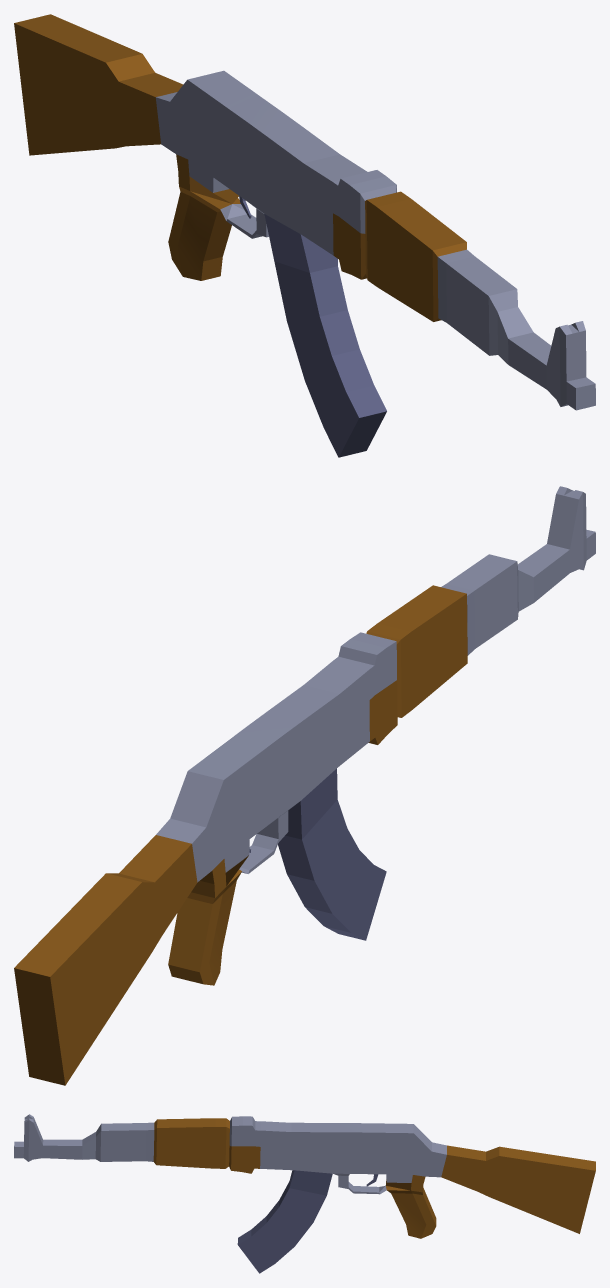
The model's file is hunter_gun.fbx.
The picture shows the model from 3 angles, top to bottom: view 1: azimuth 30°, elevation 25°; view 2: azimuth 150°, elevation 25°; view 3: azimuth 270°, elevation 25°; orthographic projection. The views are drawn at different scales.
Visible parts, largest first — view 1: Object_4.001; view 2: Object_4.001; view 3: Object_4.001.
Part boxes in pixels (box(x1,y1,x2,y2)): Object_4.001: box(14, 14, 595, 457); Object_4.001: box(14, 486, 595, 1085); Object_4.001: box(14, 1114, 595, 1273).
Bounding box in the file's own units: 10.97 × 275 × 79.49.
